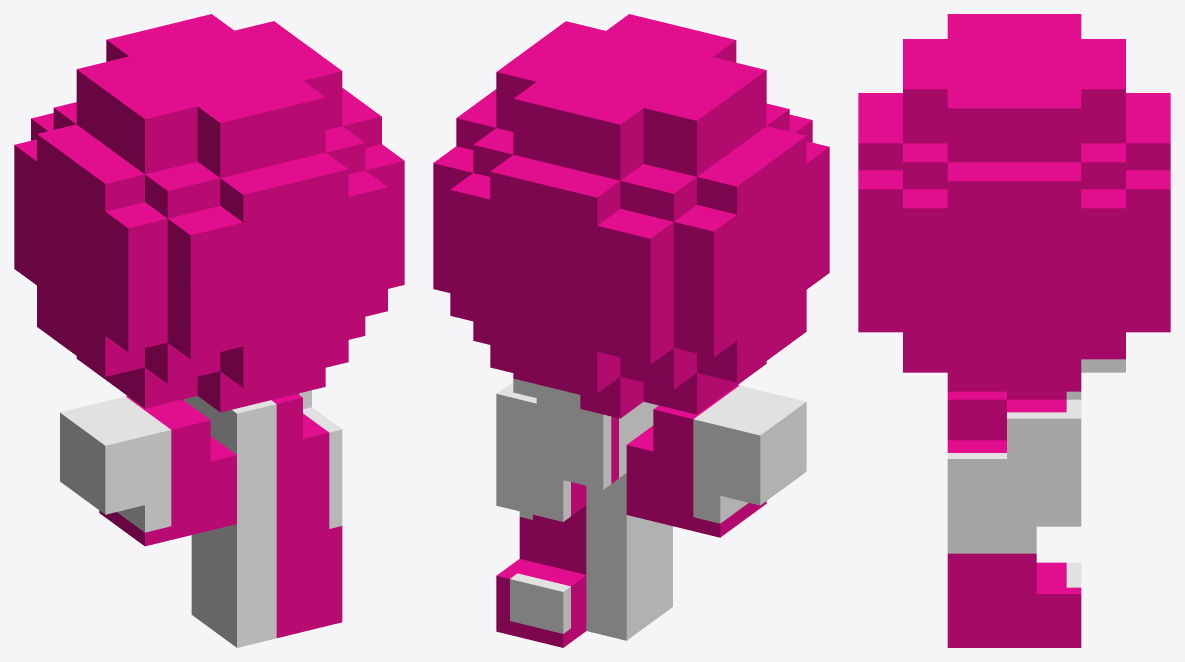
File: ZonaMundoPelea-8-ArbolPequeño1.obj
3 renders of one model, left to right at view 1: azimuth 30°, elevation 25°; view 2: azimuth 150°, elevation 25°; view 3: azimuth 270°, elevation 25°, orthographic. The views are drawn at different scales.
Visible parts, largest first — view 1: ArbolPequeño1; view 2: ArbolPequeño1; view 3: ArbolPequeño1.
Boxes of the visible parts, x1=… form: ArbolPequeño1: x1=14, y1=14, x2=404, y2=647; ArbolPequeño1: x1=433, y1=14, x2=829, y2=647; ArbolPequeño1: x1=858, y1=14, x2=1170, y2=647.
Size of the model in its own units: 2.1 by 4 by 2.1.
1 material, 1 textured.
